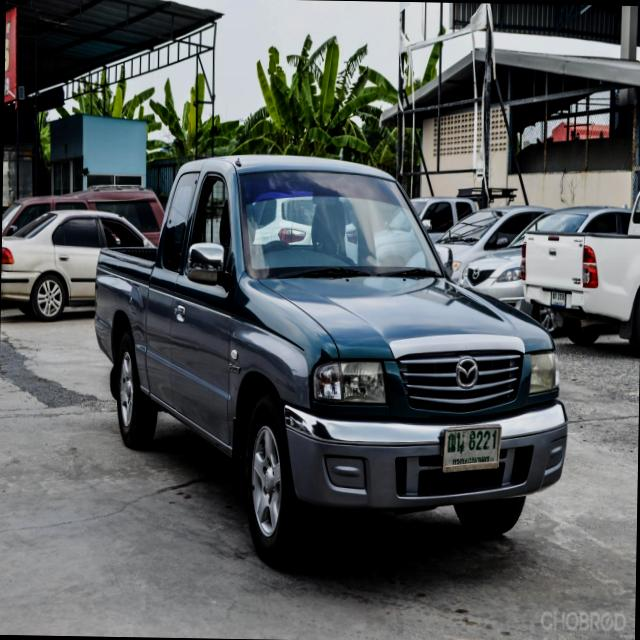license_plate: (442, 421, 502, 478)
